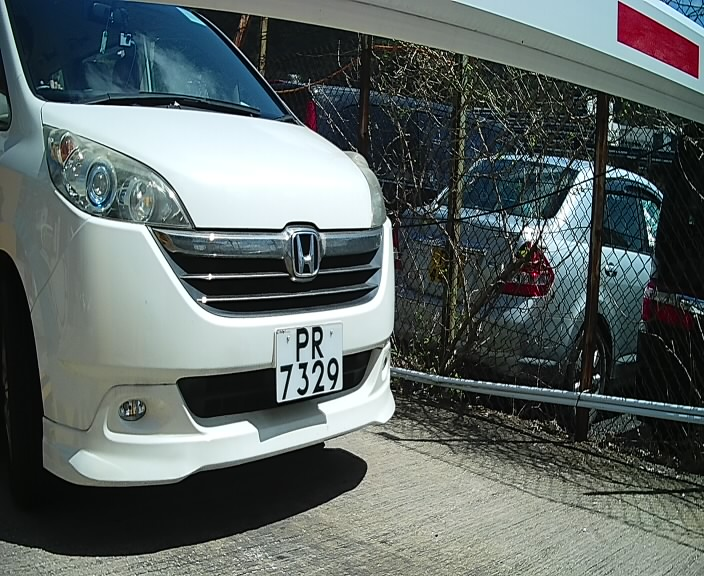License Plate: (263, 312, 352, 412)
